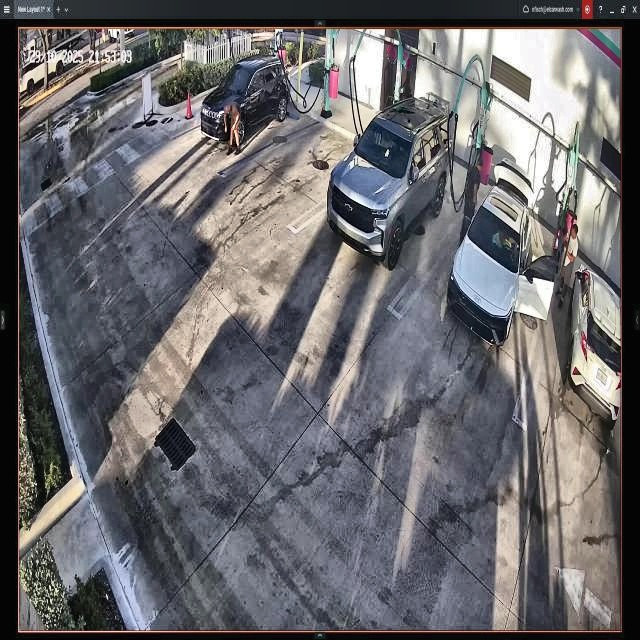Car: (325, 98, 451, 262), (447, 159, 547, 343), (199, 54, 291, 147)
